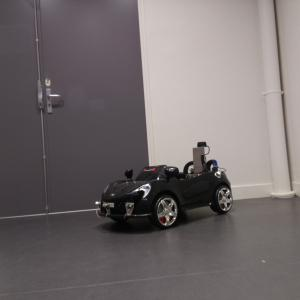big: (91, 159, 236, 228)
